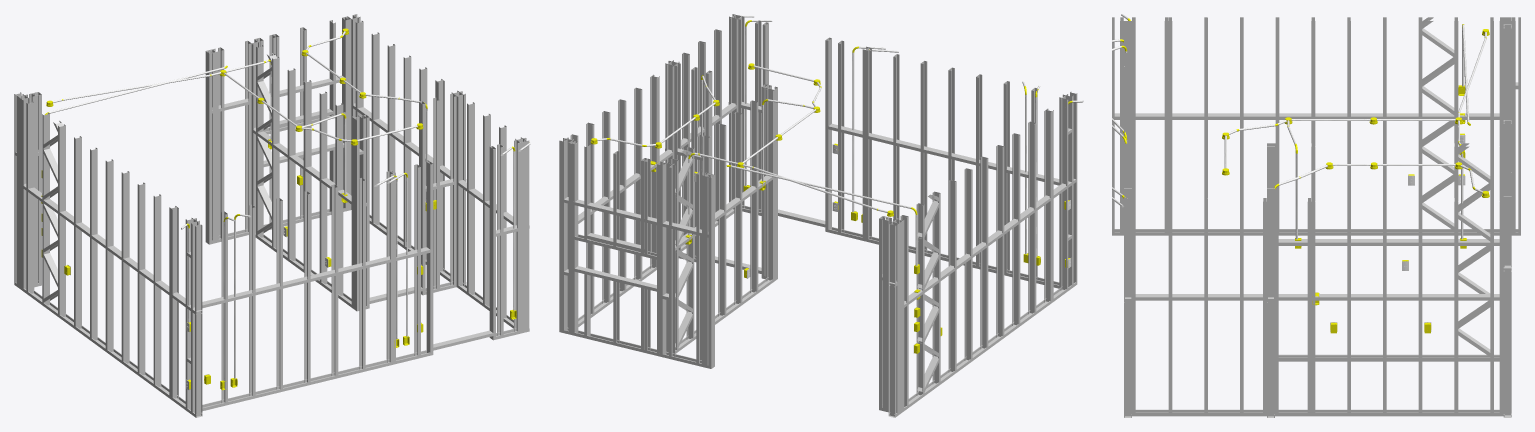
The model's file is suite-davi.glb.
3 views of the same model, side by side, from view 1: azimuth 30°, elevation 25°; view 2: azimuth 150°, elevation 25°; view 3: azimuth 270°, elevation 25° (orthographic). The views are drawn at different scales.
Visible parts, largest first — view 1: DirectShape Modelos genéricos <300877 Componente#2187<, DirectShape Modelos genéricos <300575 Componente#1982<, DirectShape Modelos genéricos <300607 Componente#1981<, DirectShape Modelos genéricos <300868 Componente#2221<, DirectShape Modelos genéricos <300617 Componente#1983<, DirectShape Modelos genéricos <300577 Componente#1984<, DirectShape Modelos genéricos <300586 Componente#1975<, DirectShape Modelos genéricos <300759 Componente#2174<, DirectShape Modelos genéricos <300872 Componente#2229<, DirectShape Modelos genéricos <300816 Componente#2176<, DirectShape Modelos genéricos <300768 Componente#2182<, DirectShape Modelos genéricos <300793 Componente#2147< (+67 smaller); view 2: DirectShape Modelos genéricos <300572 Componente#1980<, DirectShape Modelos genéricos <300869 Componente#2225<, DirectShape Modelos genéricos <300607 Componente#1981<, DirectShape Modelos genéricos <300574 Componente#1979<, DirectShape Modelos genéricos <300577 Componente#1984<, DirectShape Modelos genéricos <300622 Componente#1973<, DirectShape Modelos genéricos <300617 Componente#1983<, DirectShape Modelos genéricos <300575 Componente#1982<, DirectShape Modelos genéricos <300856 Componente#2233<, DirectShape Modelos genéricos <299429 Componente#1602<, DirectShape Modelos genéricos <300872 Componente#2229<, DirectShape Modelos genéricos <300818 Componente#2201< (+64 smaller); view 3: DirectShape Modelos genéricos <300594 Componente#1976<, DirectShape Modelos genéricos <300591 Componente#1972<, DirectShape Modelos genéricos <300922 Componente#2290<, DirectShape Modelos genéricos <301007 Componente#2331<, DirectShape Modelos genéricos <300840 Componente#2197<, DirectShape Modelos genéricos <300534 Componente#1908<, DirectShape Modelos genéricos <300802 Componente#2169<, DirectShape Modelos genéricos <300825 Componente#2213<, DirectShape Modelos genéricos <300801 Componente#2173<, DirectShape Modelos genéricos <300764 Componente#2179<, DirectShape Modelos genéricos <300761 Componente#2178<, DirectShape Modelos genéricos <300826 Componente#2192< (+32 smaller).
Part boxes in pixels (x1=…): DirectShape Modelos genéricos <300877 Componente#2187<: x1=456, y1=94, x2=464, y2=287; DirectShape Modelos genéricos <300575 Componente#1982<: x1=121, y1=171, x2=129, y2=363; DirectShape Modelos genéricos <300607 Componente#1981<: x1=105, y1=159, x2=113, y2=351; DirectShape Modelos genéricos <300868 Componente#2221<: x1=287, y1=68, x2=295, y2=261; DirectShape Modelos genéricos <300617 Componente#1983<: x1=137, y1=182, x2=145, y2=375; DirectShape Modelos genéricos <300577 Componente#1984<: x1=153, y1=194, x2=161, y2=386; DirectShape Modelos genéricos <300586 Componente#1975<: x1=26, y1=101, x2=34, y2=293; DirectShape Modelos genéricos <300759 Componente#2174<: x1=371, y1=32, x2=379, y2=224; DirectShape Modelos genéricos <300872 Componente#2229<: x1=319, y1=91, x2=327, y2=284; DirectShape Modelos genéricos <300816 Componente#2176<: x1=403, y1=55, x2=411, y2=248; DirectShape Modelos genéricos <300768 Componente#2182<: x1=467, y1=102, x2=474, y2=295; DirectShape Modelos genéricos <300793 Componente#2147<: x1=331, y1=184, x2=338, y2=375; DirectShape Modelos genéricos <300572 Componente#1980<: x1=964, y1=168, x2=972, y2=360; DirectShape Modelos genéricos <300869 Componente#2225<: x1=718, y1=123, x2=726, y2=317; DirectShape Modelos genéricos <300607 Componente#1981<: x1=980, y1=156, x2=988, y2=348; DirectShape Modelos genéricos <300574 Componente#1979<: x1=948, y1=180, x2=956, y2=372; DirectShape Modelos genéricos <300577 Componente#1984<: x1=1028, y1=121, x2=1036, y2=314; DirectShape Modelos genéricos <300622 Componente#1973<: x1=1044, y1=110, x2=1052, y2=302; DirectShape Modelos genéricos <300617 Componente#1983<: x1=1012, y1=133, x2=1020, y2=325; DirectShape Modelos genéricos <300575 Componente#1982<: x1=996, y1=145, x2=1004, y2=337; DirectShape Modelos genéricos <300856 Componente#2233<: x1=750, y1=100, x2=758, y2=293; DirectShape Modelos genéricos <299429 Componente#1602<: x1=1060, y1=98, x2=1068, y2=290; DirectShape Modelos genéricos <300872 Componente#2229<: x1=734, y1=112, x2=742, y2=305; DirectShape Modelos genéricos <300818 Componente#2201<: x1=766, y1=88, x2=774, y2=282; DirectShape Modelos genéricos <300594 Componente#1976<: x1=1168, y1=113, x2=1503, y2=119; DirectShape Modelos genéricos <300591 Componente#1972<: x1=1172, y1=229, x2=1499, y2=235; DirectShape Modelos genéricos <300922 Componente#2290<: x1=1267, y1=201, x2=1274, y2=417; DirectShape Modelos genéricos <301007 Componente#2331<: x1=1124, y1=201, x2=1131, y2=417; DirectShape Modelos genéricos <300840 Componente#2197<: x1=1278, y1=354, x2=1499, y2=361; DirectShape Modelos genéricos <300534 Componente#1908<: x1=1503, y1=200, x2=1511, y2=415; DirectShape Modelos genéricos <300802 Componente#2169<: x1=1311, y1=409, x2=1503, y2=416; DirectShape Modelos genéricos <300825 Componente#2213<: x1=1278, y1=239, x2=1499, y2=245; DirectShape Modelos genéricos <300801 Componente#2173<: x1=1311, y1=294, x2=1503, y2=300; DirectShape Modelos genéricos <300764 Componente#2179<: x1=1135, y1=409, x2=1307, y2=416; DirectShape Modelos genéricos <300761 Componente#2178<: x1=1307, y1=198, x2=1311, y2=416; DirectShape Modelos genéricos <300826 Componente#2192<: x1=1168, y1=198, x2=1172, y2=416.
Size of the model in its own units: 5.07 by 2.65 by 4.58.
